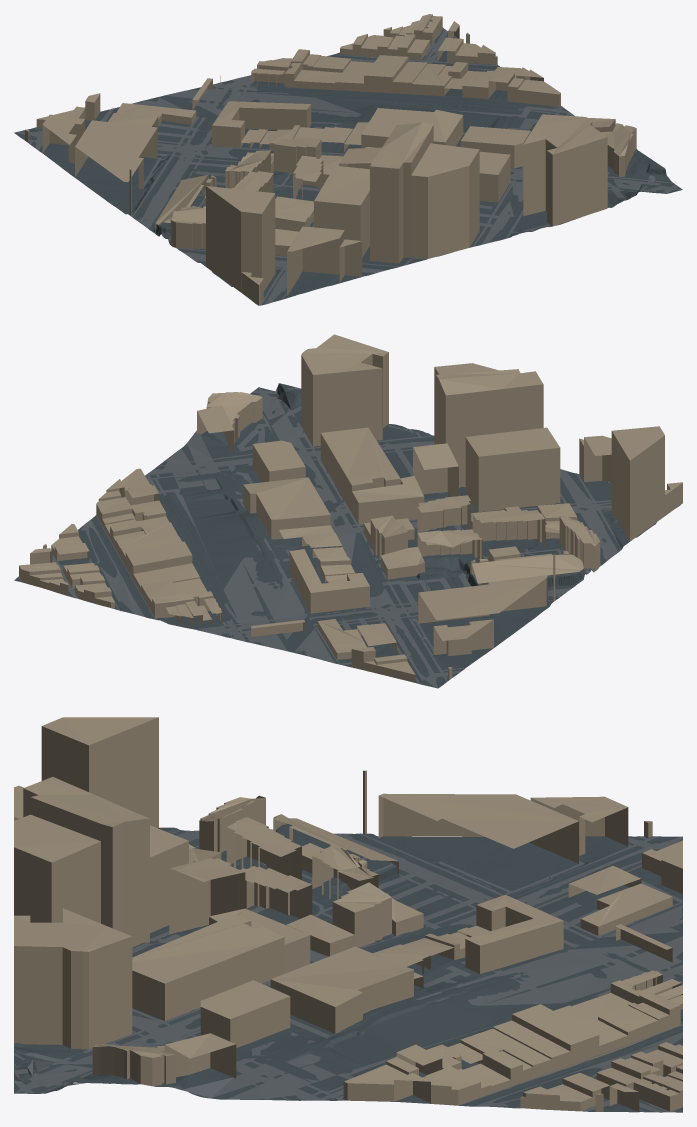
The model's file is epsg26910-1440-10890.lod0.glb.
The picture shows the model from 3 angles, top to bottom: view 1: azimuth 30°, elevation 25°; view 2: azimuth 150°, elevation 25°; view 3: azimuth 270°, elevation 25°; orthographic projection. The views are drawn at different scales.
Parts seen in each view (by area): view 1: epsg26910-1440-10890-lod0; view 2: epsg26910-1440-10890-lod0; view 3: epsg26910-1440-10890-lod0.
Part boxes in pixels (x1,y1,x2,y2): epsg26910-1440-10890-lod0: [14, 14, 682, 305]; epsg26910-1440-10890-lod0: [14, 334, 682, 688]; epsg26910-1440-10890-lod0: [14, 717, 682, 1112].
Bounding box in the file's own units: 384 × 96.42 × 384.
